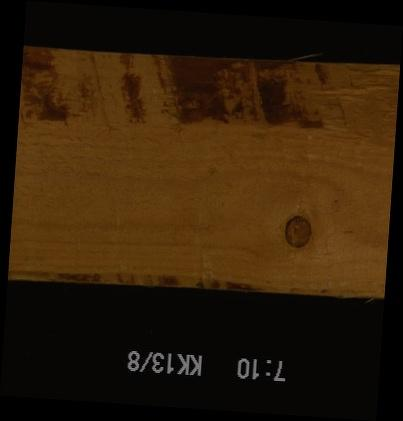wave: (19, 57, 396, 149), (7, 264, 256, 288)
